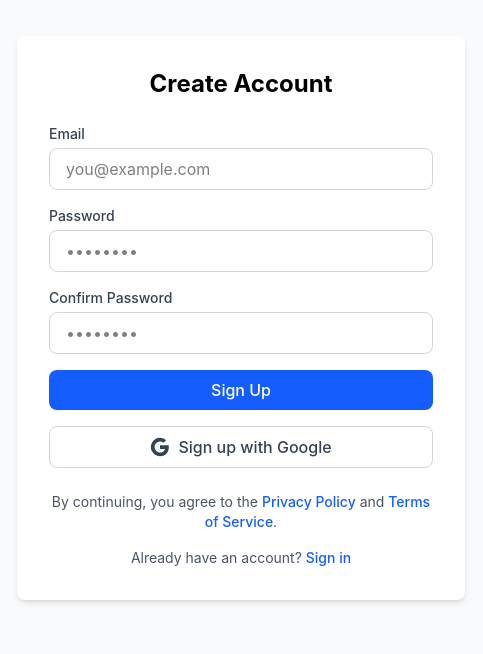
Test: Signup › shows error when passwords do not match
In the field labelled "Email": (241, 169) x1=49 y1=148 x2=433 y2=190, type "a@b.com"
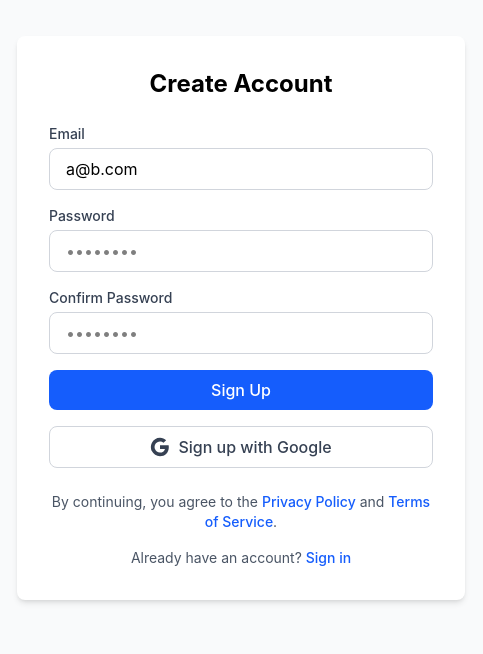
In the password field labelled "Password": (241, 251) x1=49 y1=230 x2=433 y2=272, type "pass1"
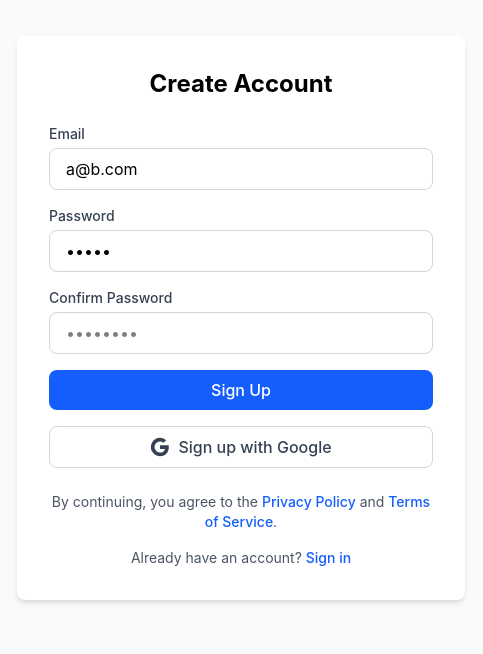
In the password field labelled "Confirm Password": (241, 333) x1=49 y1=312 x2=433 y2=354, type "pass2"
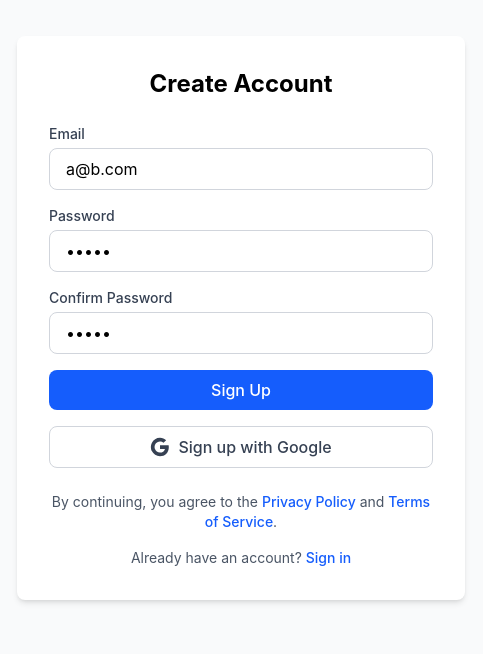
Click the button "Sign Up": (241, 390) x1=49 y1=370 x2=433 y2=410
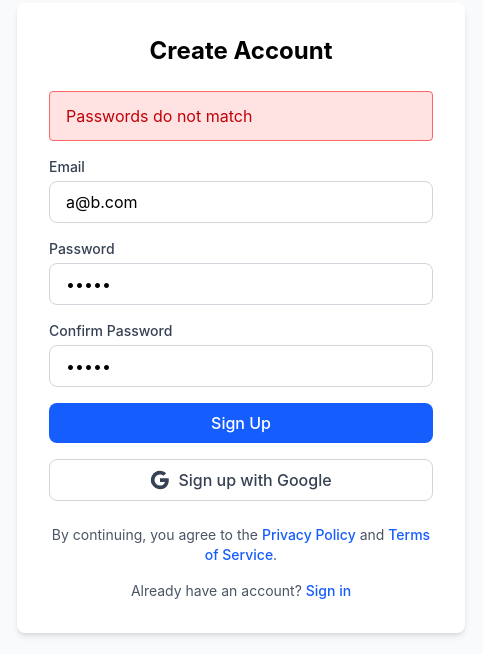
Expected: the text "Passwords do not match" is shown, x1=49 y1=91 x2=433 y2=141
